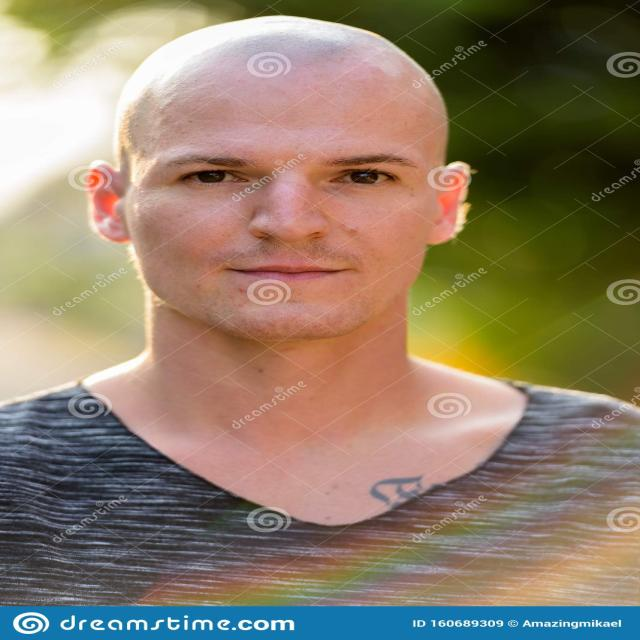no_helmet: (62, 0, 500, 212)
